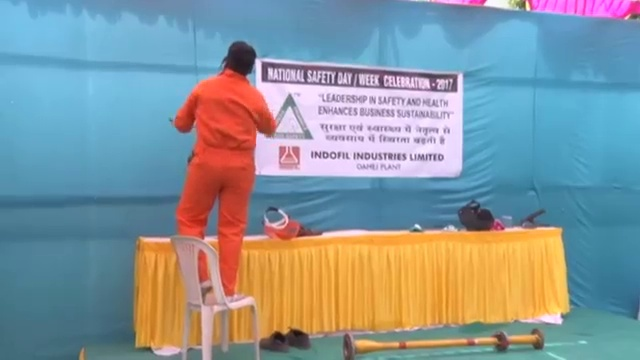helmet_off: (220, 39, 259, 78)
person: (171, 39, 278, 308)
